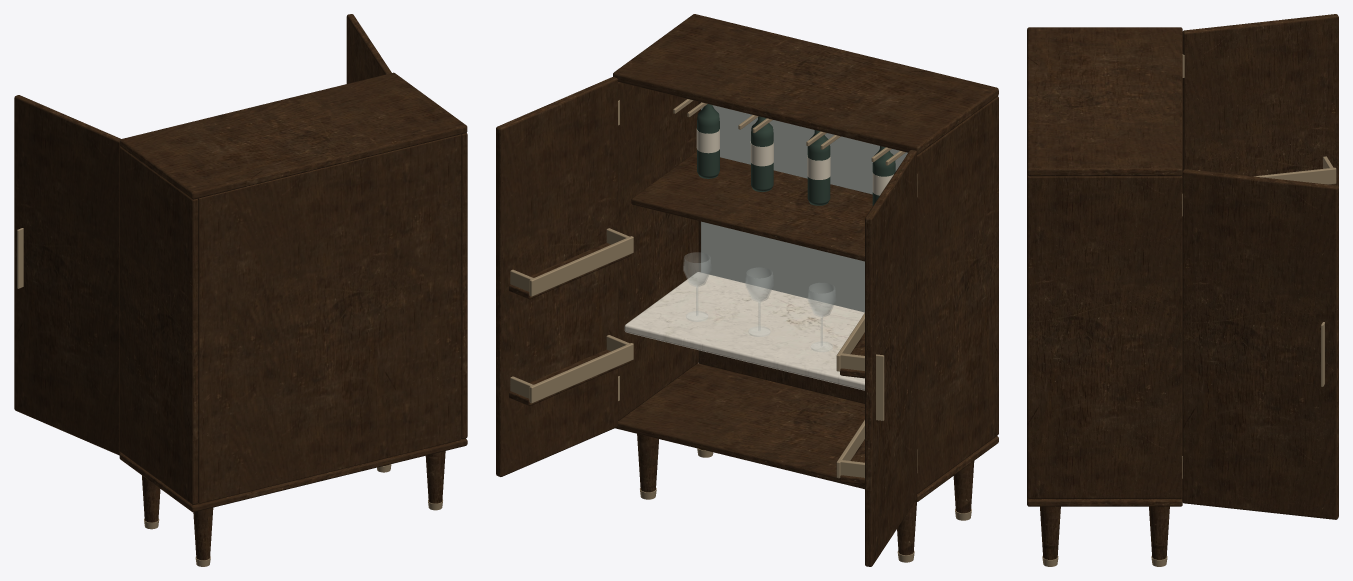
File: crafted-drinks-cabinet.glb
3 views of the same model, side by side, from view 1: azimuth 30°, elevation 25°; view 2: azimuth 150°, elevation 25°; view 3: azimuth 270°, elevation 25° (orthographic). The views are drawn at different scales.
Parts seen in each view (by area): view 1: walnut_surfaces, bronze_surfaces; view 2: walnut_surfaces, stone_surfaces, mirror_surfaces, bronze_surfaces, bottle_surfaces, glass_surfaces, paper_surfaces; view 3: walnut_surfaces, bronze_surfaces.
Boxes of the visible parts, x1,y1,x2,y2 form: walnut_surfaces: [14, 14, 467, 560]; bronze_surfaces: [17, 228, 442, 566]; walnut_surfaces: [496, 14, 998, 566]; stone_surfaces: [624, 272, 864, 390]; mirror_surfaces: [701, 102, 907, 312]; bronze_surfaces: [510, 99, 971, 562]; bottle_surfaces: [697, 104, 895, 205]; glass_surfaces: [683, 252, 835, 351]; paper_surfaces: [696, 129, 893, 195]; walnut_surfaces: [1027, 14, 1338, 559]; bronze_surfaces: [1042, 54, 1336, 566].
Size of the model in its own units: 1.36 by 1.44 by 1.
7 materials, 2 textured.
